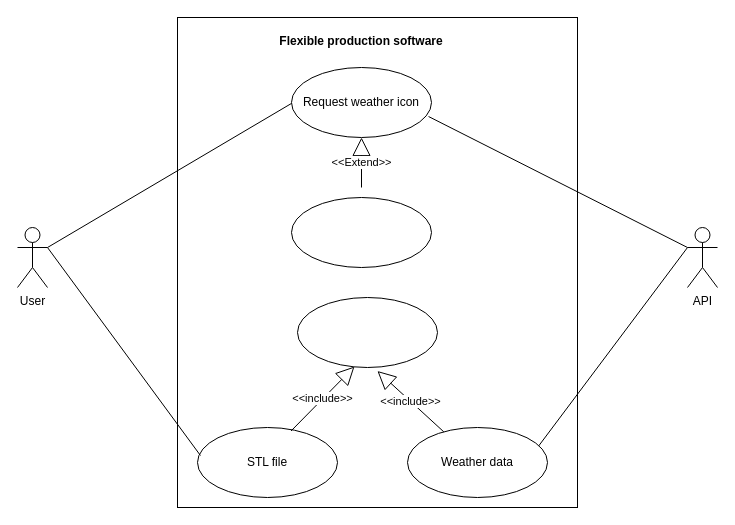
This 735x525 diagram has some shape labels left out. The shapes that lost their labels are listed below. From the top down, each one's box as (x1, y1, x2, y2) in pixels, then its label:
(290, 196, 432, 268): Check if data is available
(296, 296, 438, 368): Generate mesh
